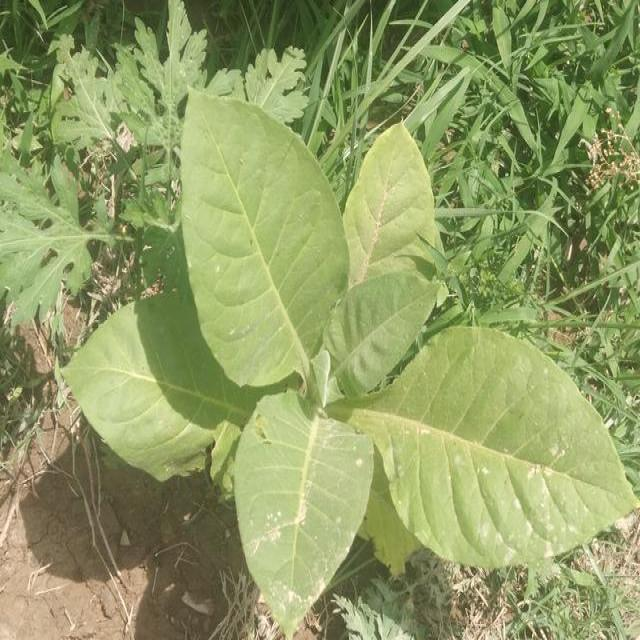crop: (81, 79, 630, 597)
